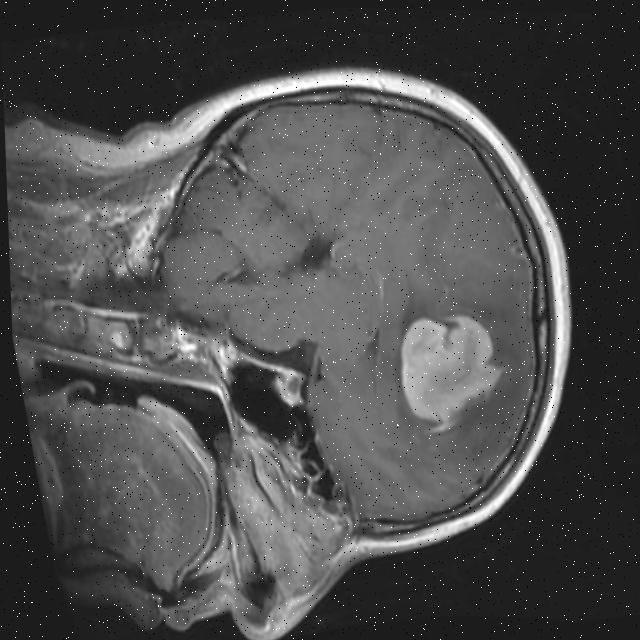Meningioma: (387, 303, 520, 441)
Pituitary: (271, 365, 311, 408)
